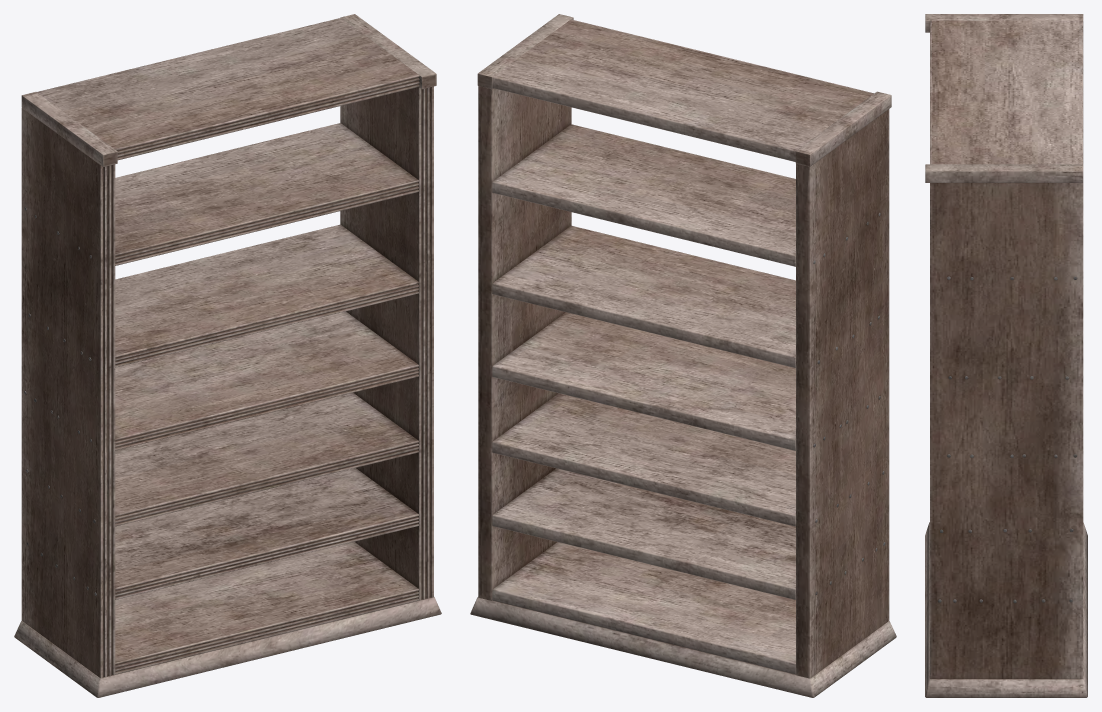
Rendered from wooden_bookshelf_worn.glb.
3 renders of one model, left to right at view 1: azimuth 30°, elevation 25°; view 2: azimuth 150°, elevation 25°; view 3: azimuth 270°, elevation 25°, orthographic. The views are drawn at different scales.
Visible parts, largest first — view 1: wooden_bookshelf_worn; view 2: wooden_bookshelf_worn; view 3: wooden_bookshelf_worn.
Part boxes in pixels (x1=…): wooden_bookshelf_worn: x1=14, y1=14, x2=441, y2=697; wooden_bookshelf_worn: x1=470, y1=14, x2=896, y2=697; wooden_bookshelf_worn: x1=925, y1=14, x2=1087, y2=697.
Size of the model in its own units: 1.37 by 2.06 by 0.5813.
1 material, 1 textured.
